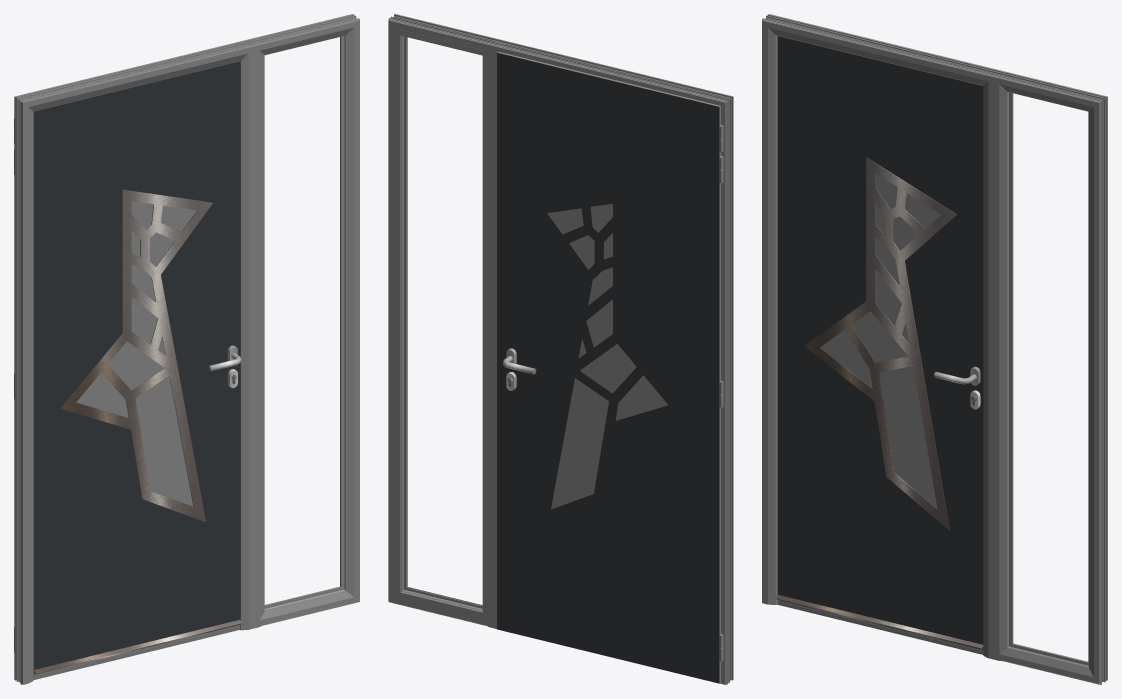
The picture shows the model from 3 angles, left to right: view 1: azimuth 30°, elevation 25°; view 2: azimuth 150°, elevation 25°; view 3: azimuth 330°, elevation 25°; orthographic projection.
Parts seen in each view (by area): view 1: bloco_128, Rectangle002, Line004, alunox_079, Box001, Object, Object001, Line005, Rectangle005, Rectangle003; view 2: bloco_128, Rectangle002, Box002, Rectangle003, Line004, Object001, Rectangle004, Object; view 3: bloco_128, Rectangle002, Line004, alunox_079, Box001, Object001, Object, Line005, Rectangle003, Rectangle005.
Boxes of the visible parts, bbox=[...] form: bloco_128: bbox=[33, 61, 240, 671]; Rectangle002: bbox=[14, 14, 359, 684]; Line004: bbox=[240, 46, 264, 630]; alunox_079: bbox=[60, 189, 212, 521]; Box001: bbox=[76, 201, 196, 506]; Object: bbox=[33, 35, 346, 680]; Object001: bbox=[264, 36, 344, 608]; Line005: bbox=[33, 620, 242, 674]; Rectangle005: bbox=[33, 625, 240, 679]; Rectangle003: bbox=[264, 37, 340, 605]; bloco_128: bbox=[497, 52, 719, 683]; Rectangle002: bbox=[388, 14, 733, 684]; Box002: bbox=[547, 204, 667, 509]; Rectangle003: bbox=[394, 28, 487, 619]; Line004: bbox=[488, 41, 504, 628]; Object001: bbox=[401, 36, 482, 610]; Rectangle004: bbox=[496, 51, 720, 683]; Object: bbox=[404, 36, 482, 608]; bloco_128: bbox=[777, 36, 983, 644]; Rectangle002: bbox=[762, 14, 1107, 684]; Line004: bbox=[983, 77, 1007, 661]; alunox_079: bbox=[804, 157, 956, 530]; Box001: bbox=[820, 174, 940, 508]; Object001: bbox=[1007, 92, 1088, 665]; Object: bbox=[776, 35, 1088, 667]; Line005: bbox=[775, 595, 983, 649]; Rectangle003: bbox=[1012, 93, 1087, 662]; Rectangle005: bbox=[777, 600, 983, 654].
Size of the model in its own units: 1307 by 2150 by 192.
Materials: 7 (4 with a texture image).
